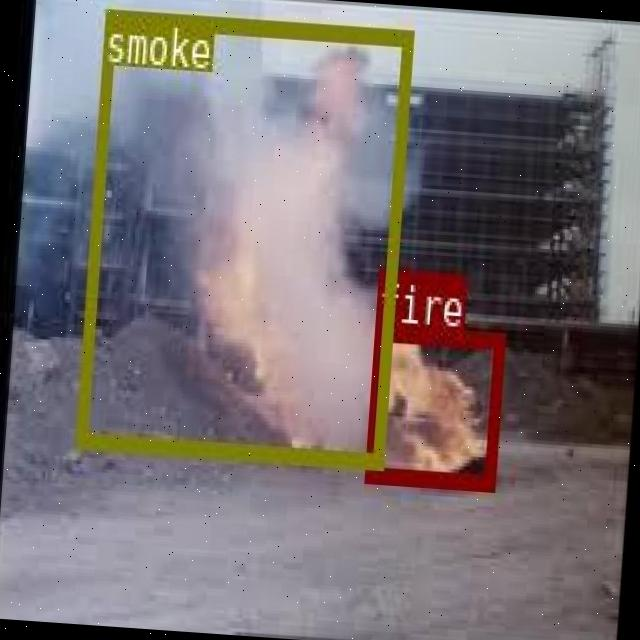fire: (363, 322, 504, 486)
smoke: (74, 8, 410, 466)
